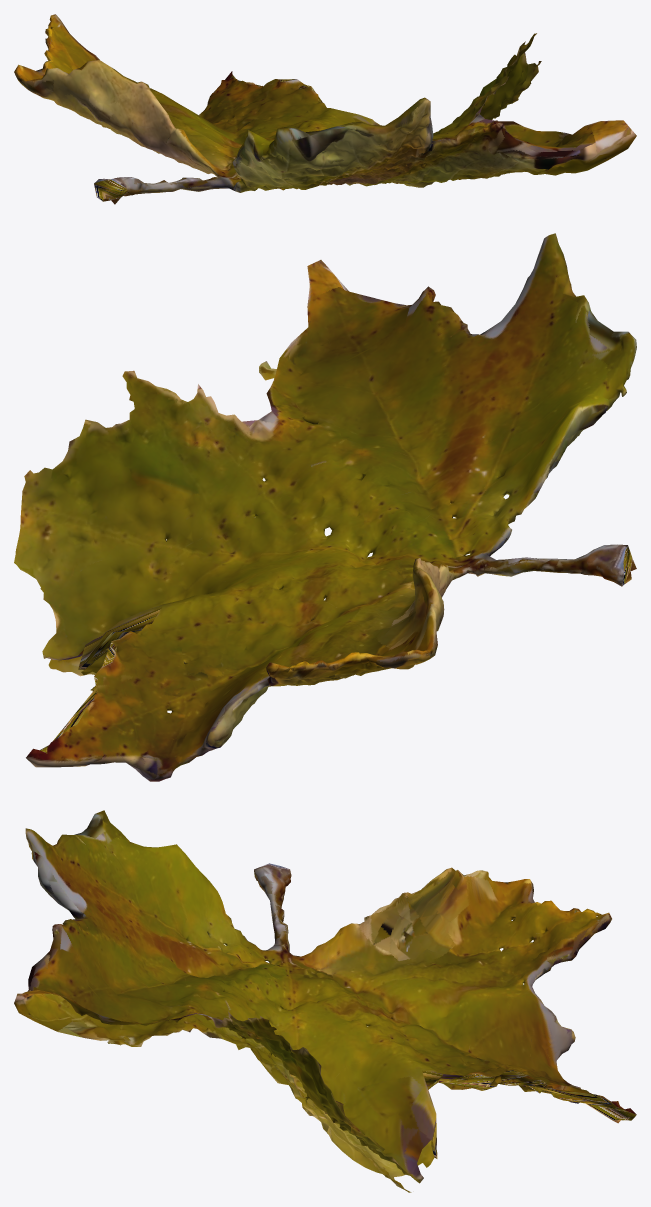
File: leaf.glb
3 views of the same model, one above another, from view 1: azimuth 30°, elevation 25°; view 2: azimuth 150°, elevation 25°; view 3: azimuth 270°, elevation 25° (orthographic). The views are drawn at different scales.
Parts seen in each view (by area): view 1: export_2; view 2: export_2; view 3: export_2.
Boxes of the visible parts, x1=… form: export_2: x1=14, y1=14, x2=636, y2=204; export_2: x1=14, y1=233, x2=636, y2=781; export_2: x1=14, y1=810, x2=636, y2=1192.
Bounding box in the file's own units: 0.6497 × 0.3628 × 0.7701.
Materials: 1 (1 with a texture image).
